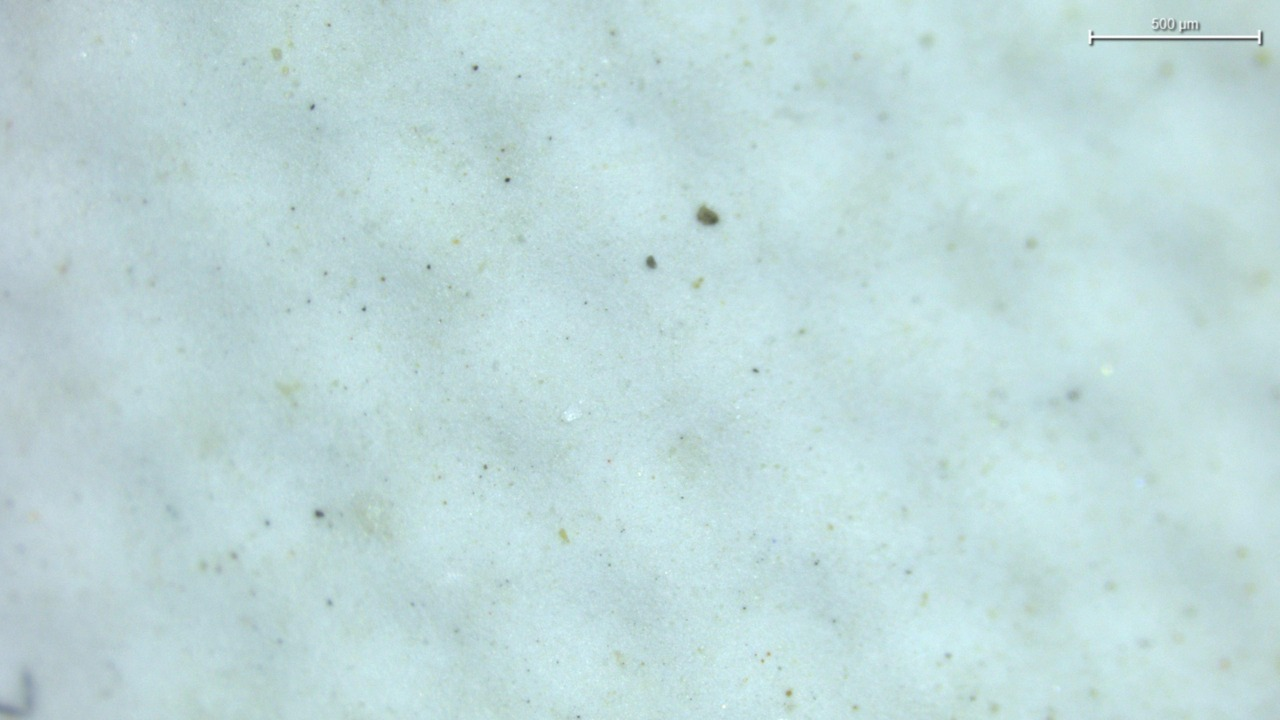microplastic_fragment: (561, 408, 582, 423)
